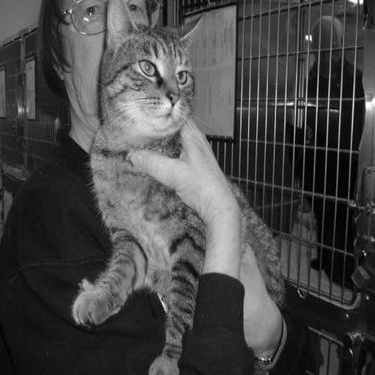cat: (61, 4, 309, 372)
